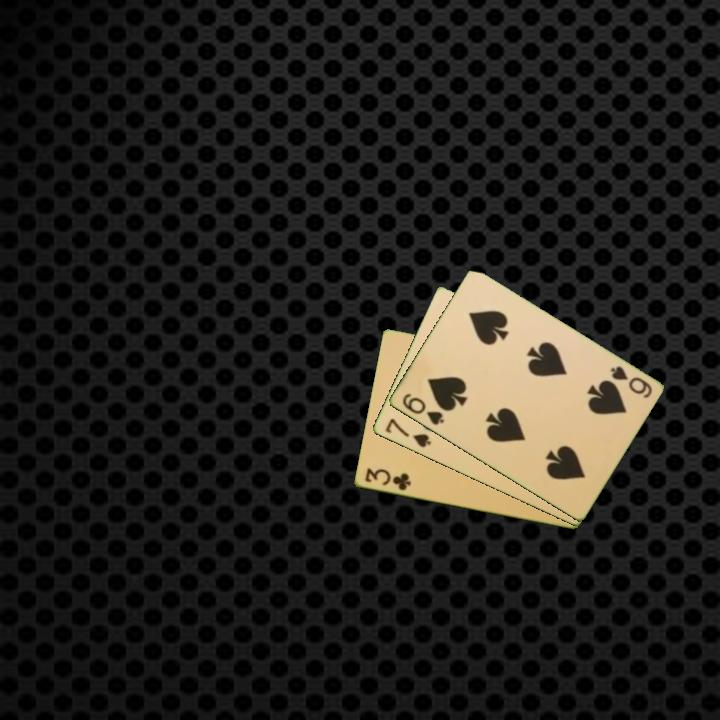3c: (361, 465, 414, 494)
6s: (607, 362, 655, 401), (398, 390, 447, 428)
7s: (381, 415, 433, 451)
